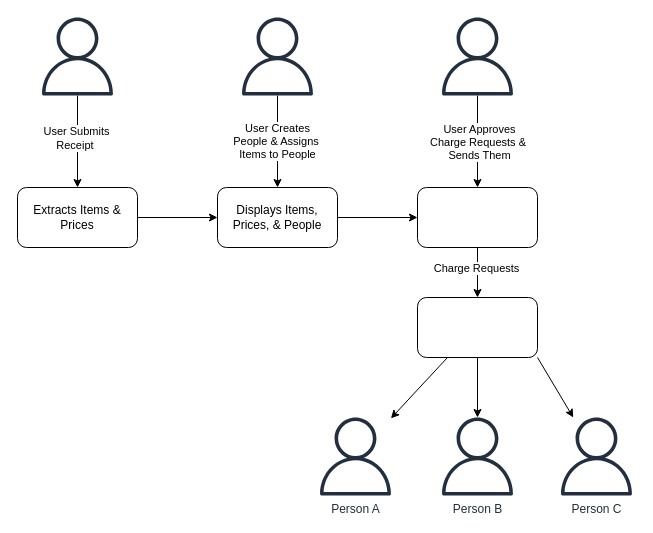
Some shapes in this 653 by 533 pixel diagram are drawn without their labels. Here are the shapes that lost their labels. From the top down, the box of each, then its label:
(416, 186, 538, 248): Calculates Total Cost Per Person & Presents Venmo Charge Requests
(416, 296, 538, 358): Venmo
